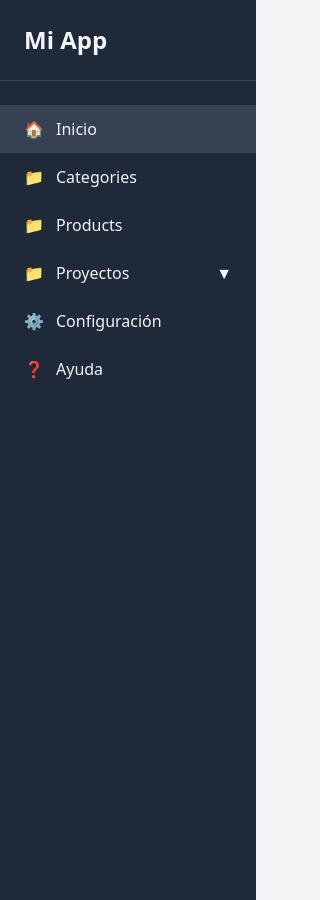
it: Sidebar › shows projects submenu when Proyectos is clicked
expect the text "Proyecto 1" is not shown: met
Click the text "Proyectos" at (93, 273), box [56,261,129,285]
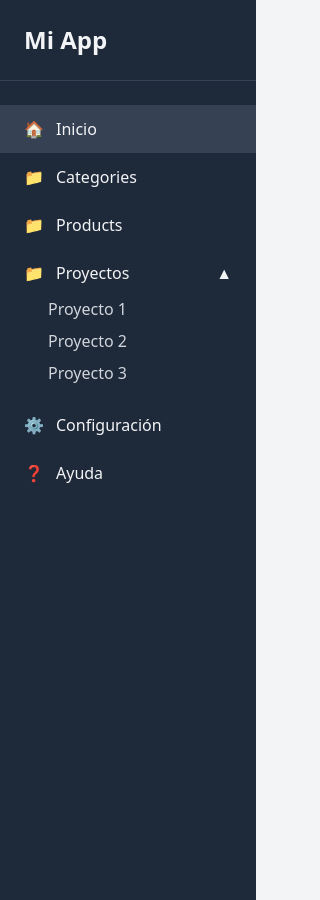
expect the button "Proyecto 1" is shown: met, box [48,297,127,321]
expect the button "Proyecto 2" is shown: met, box [48,329,127,353]
expect the button "Proyecto 3" is shown: met, box [48,361,127,385]
